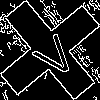V: (25, 25, 80, 82)
